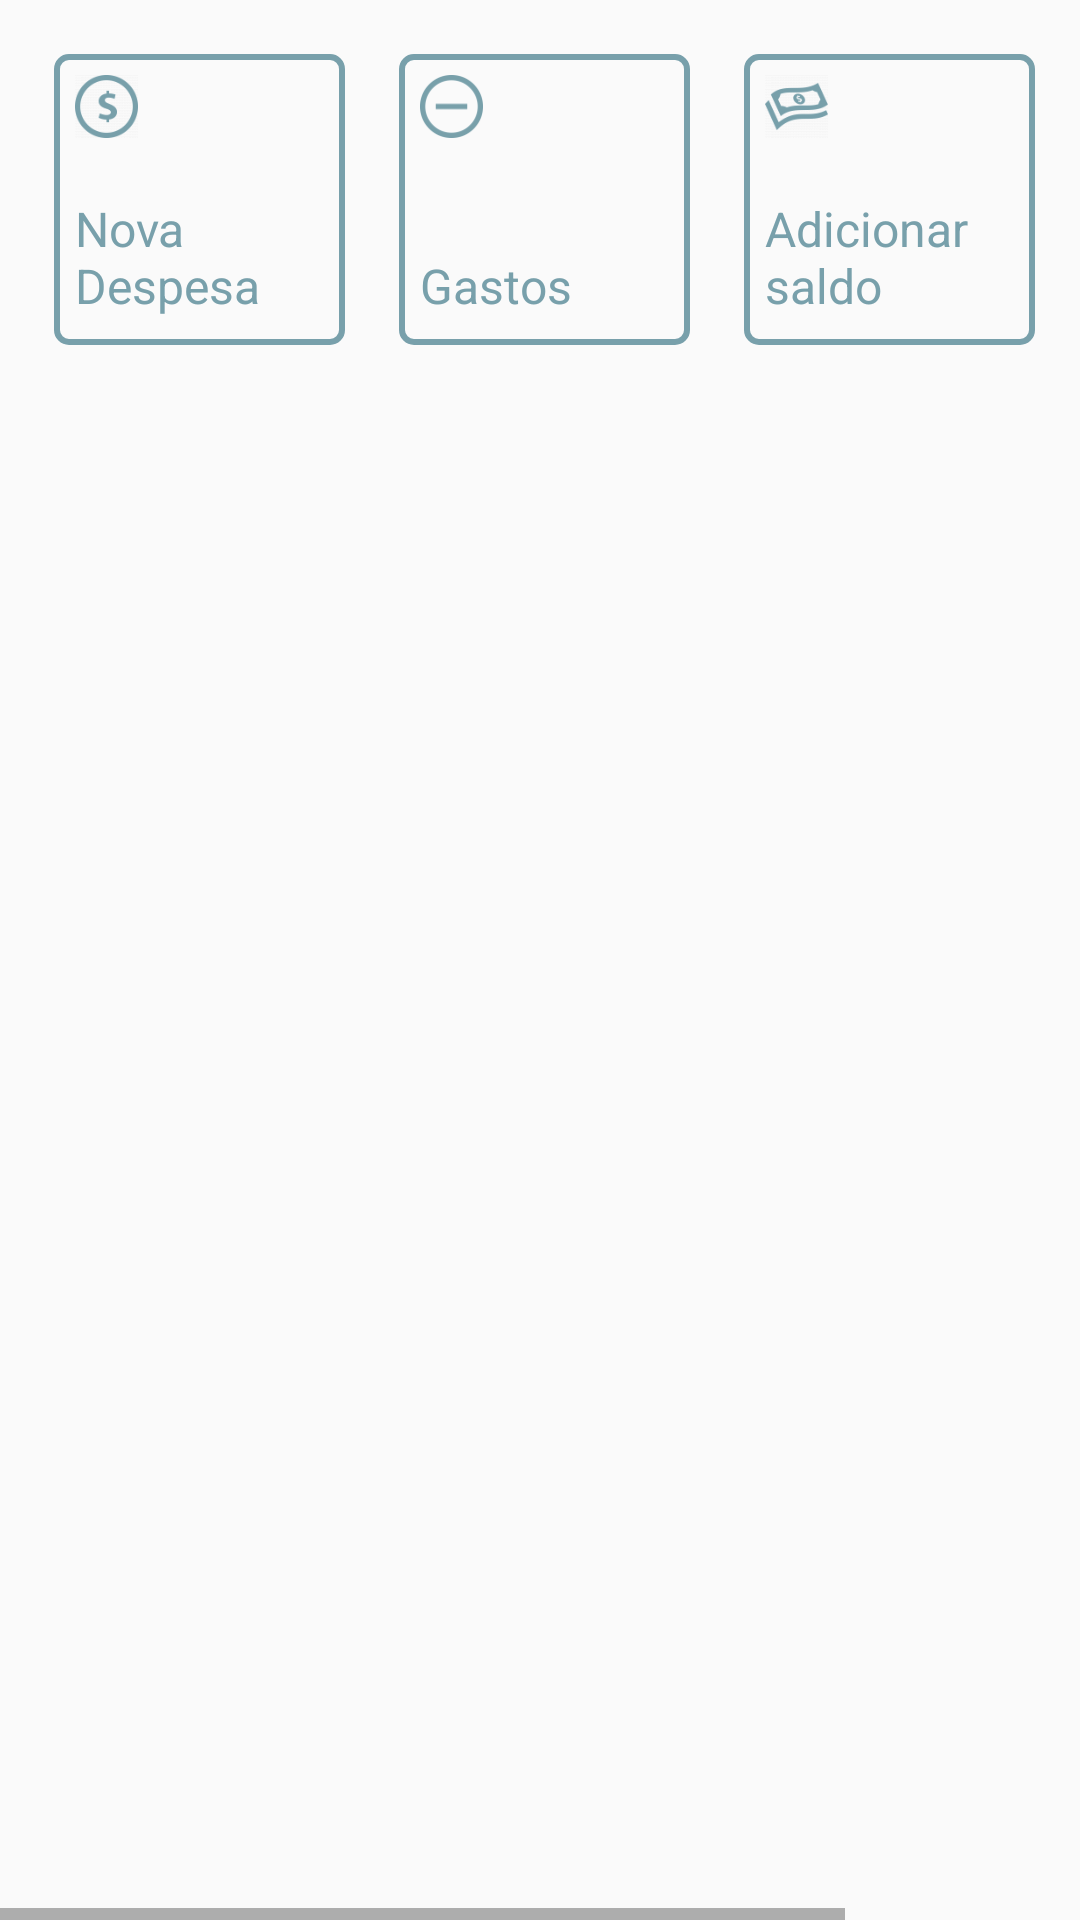

Point at icon controls on the screen. Image size 1080 x 1920, points as (x=x, y=y).
mais saldo: (x=796, y=106)
